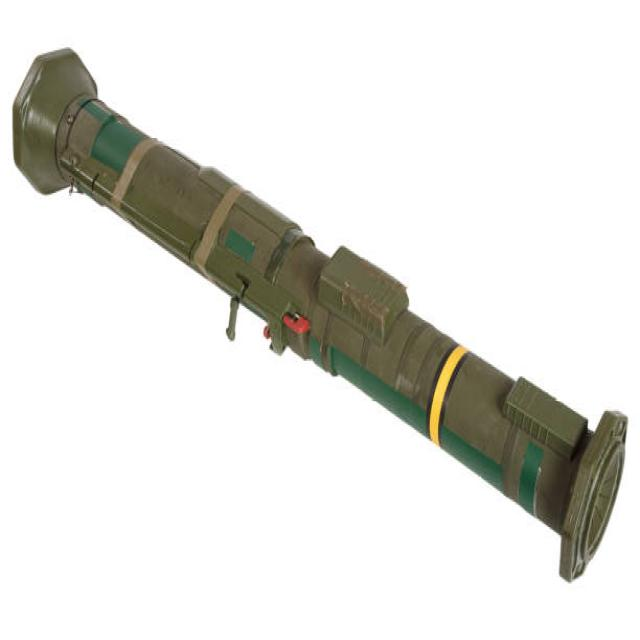bazooka: (5, 34, 635, 588)
